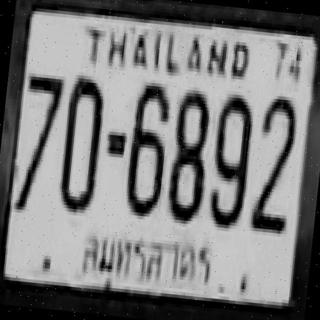N00: (56, 72, 105, 212)
N02: (248, 91, 298, 231)
N06: (123, 78, 172, 214)
N07: (14, 71, 64, 211)
N08: (164, 86, 212, 222)
N09: (206, 90, 254, 226)
P58: (73, 225, 222, 308)
